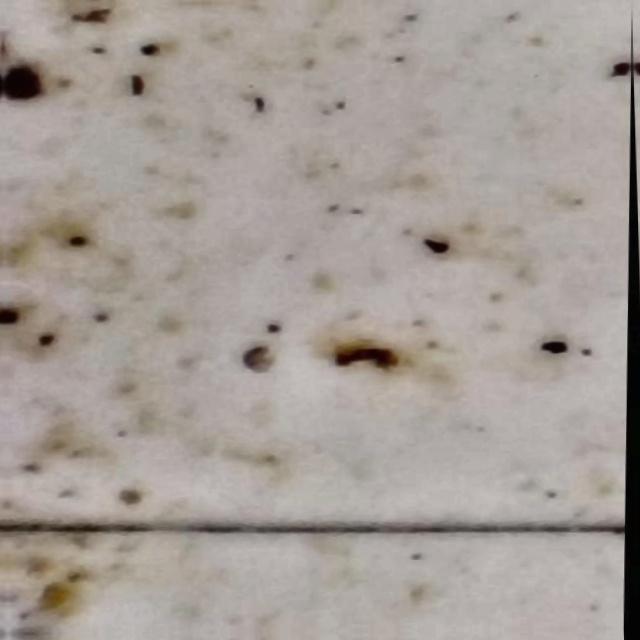varroa: (3, 67, 48, 100), (3, 35, 12, 67)
